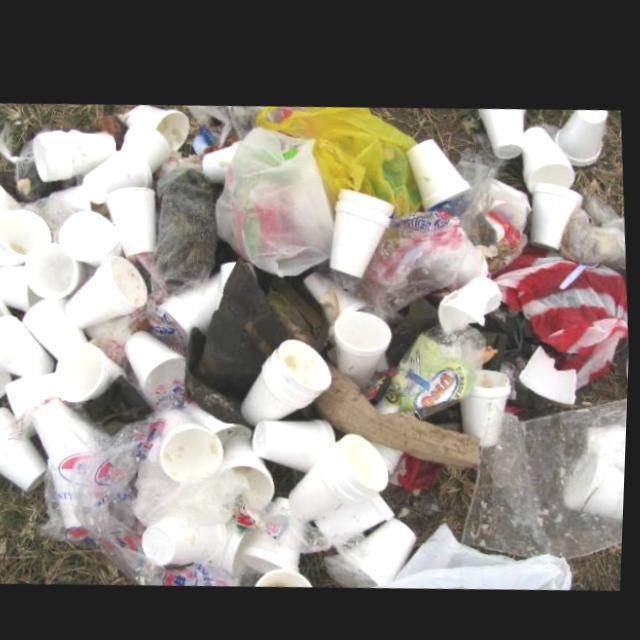paper: (313, 364, 487, 461)
plastic: (48, 416, 232, 582), (462, 383, 630, 550), (491, 233, 630, 378), (253, 100, 428, 210), (216, 123, 334, 264), (363, 202, 487, 315), (378, 318, 489, 413), (457, 131, 532, 270), (575, 184, 628, 272)
styrofoam: (290, 428, 394, 519), (241, 334, 335, 423), (161, 256, 238, 353), (65, 253, 150, 327), (331, 181, 397, 272), (243, 491, 307, 574), (147, 505, 235, 565), (159, 406, 228, 481), (348, 510, 421, 578), (255, 412, 340, 468), (407, 130, 472, 202), (335, 304, 393, 384), (24, 295, 93, 362), (33, 127, 118, 180), (57, 341, 130, 400), (0, 406, 51, 490), (464, 360, 515, 441), (228, 426, 277, 506), (126, 328, 188, 391), (105, 183, 159, 255), (0, 314, 60, 378), (84, 145, 154, 199), (440, 267, 504, 326), (60, 209, 126, 265), (319, 487, 399, 533), (27, 241, 90, 298), (523, 116, 576, 182), (8, 372, 63, 435), (532, 173, 583, 240), (117, 101, 189, 147), (522, 336, 578, 394), (0, 208, 54, 266), (555, 98, 610, 154), (185, 398, 255, 439), (0, 264, 44, 318), (478, 99, 524, 149), (122, 122, 171, 168), (258, 563, 319, 581), (0, 183, 23, 219), (0, 368, 14, 398)
